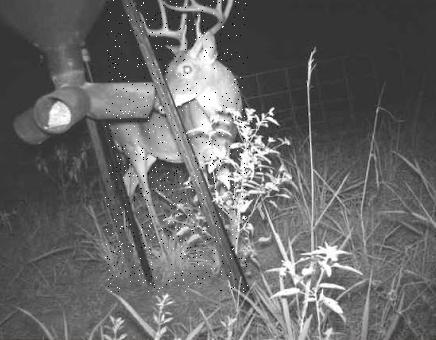Deer: (105, 0, 248, 292)
